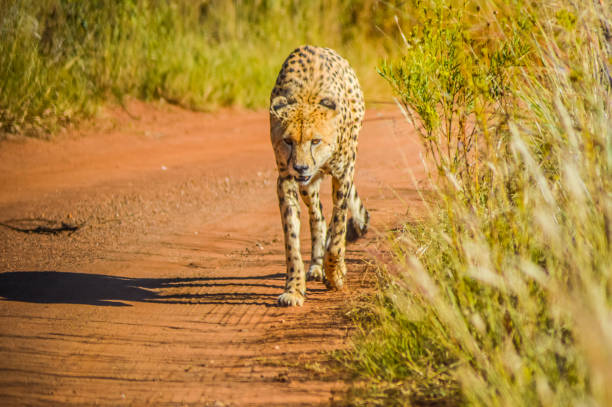cheetah: (261, 89, 346, 187)
